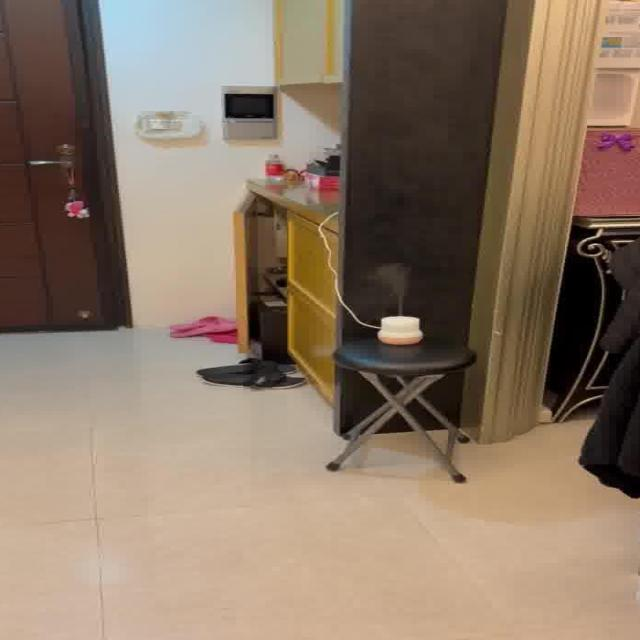fire: (358, 260, 416, 310)
